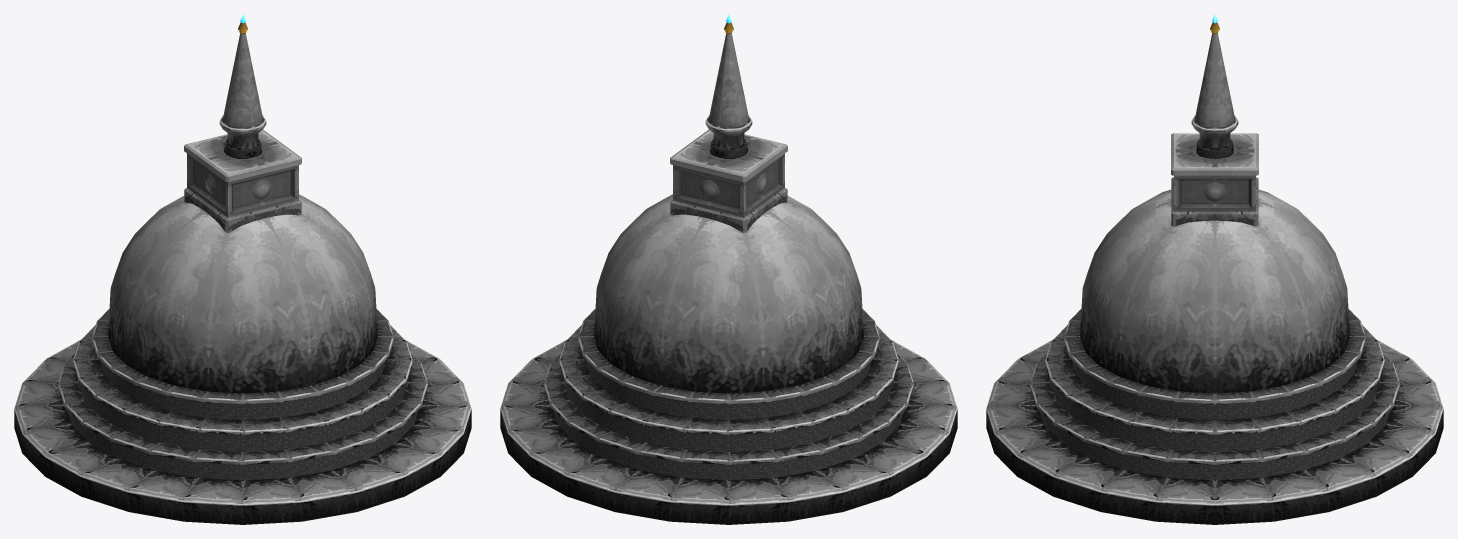
File: Vehera.fbx
The picture shows the model from 3 angles, left to right: view 1: azimuth 30°, elevation 25°; view 2: azimuth 150°, elevation 25°; view 3: azimuth 270°, elevation 25°; orthographic projection.
Parts seen in each view (by area): view 1: Stupa; view 2: Stupa; view 3: Stupa.
Boxes of the visible parts, left/top/right/bottom form: Stupa: left=14, top=14, right=471, bottom=524; Stupa: left=500, top=14, right=957, bottom=524; Stupa: left=986, top=14, right=1443, bottom=524.
Bounding box in the file's own units: 1600 × 1600 × 1600.
Materials: 1 (1 with a texture image).
